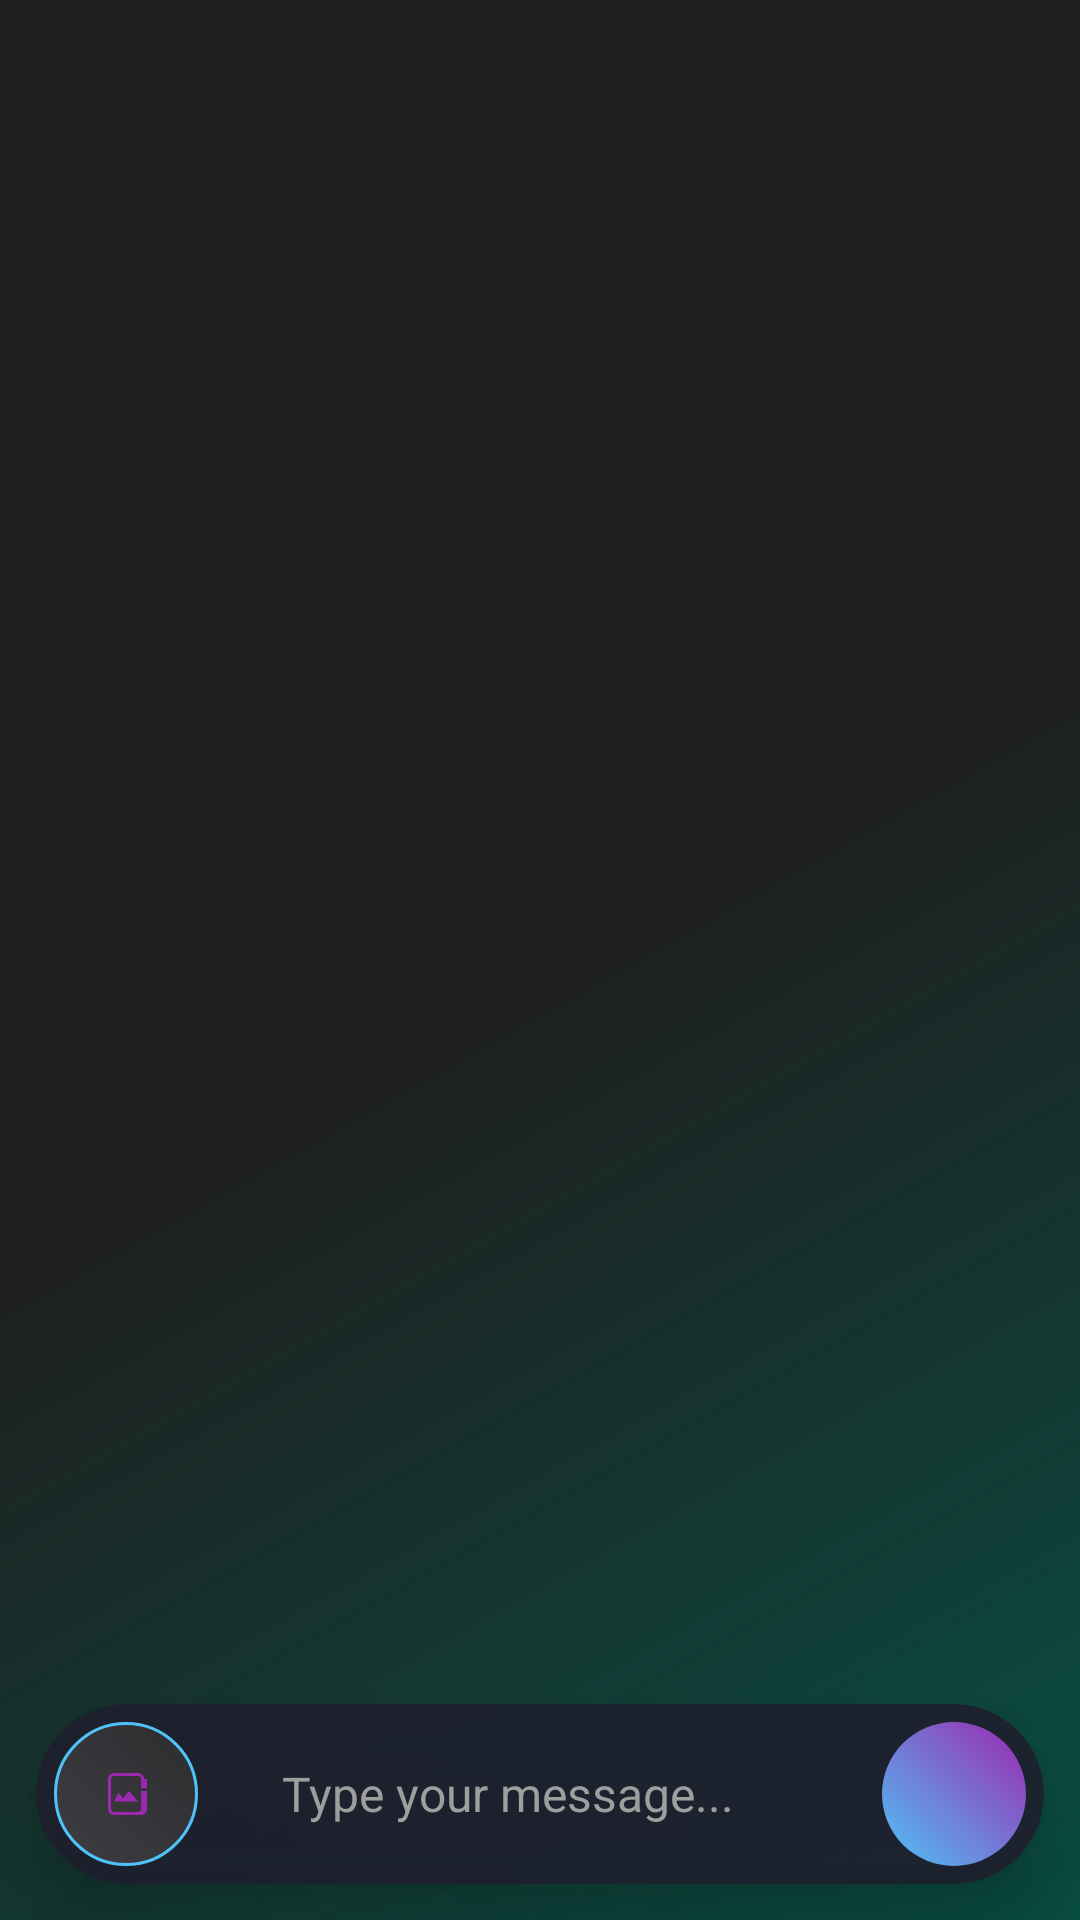

Icon click points for this 1080 × 1920 phone screenshot, format [x,y]:
Attach Image: [126,1794]
